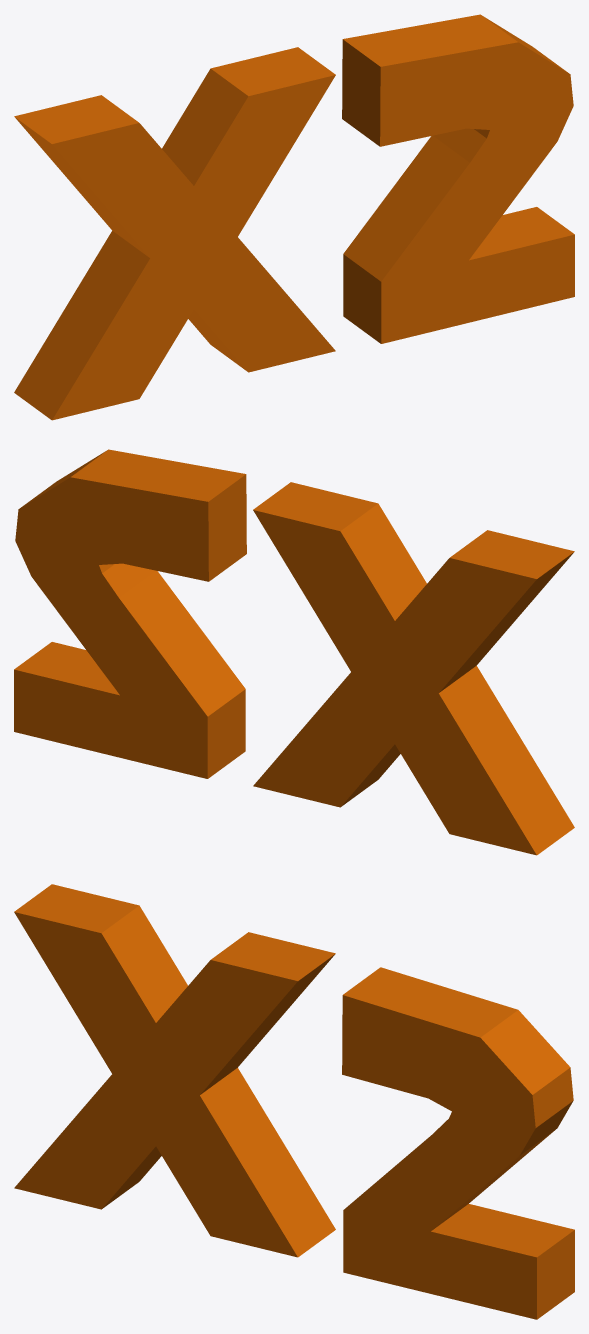
File: x2money.fbx
The picture shows the model from 3 angles, top to bottom: view 1: azimuth 30°, elevation 25°; view 2: azimuth 150°, elevation 25°; view 3: azimuth 330°, elevation 25°; orthographic projection.
Visible parts, largest first — view 1: Plane; view 2: Plane; view 3: Plane.
Part boxes in pixels (bbox=[...]): Plane: bbox=[14, 14, 574, 420]; Plane: bbox=[14, 449, 574, 855]; Plane: bbox=[14, 884, 574, 1319].
Bounding box in the file's own units: 758 × 388 × 95.34.
